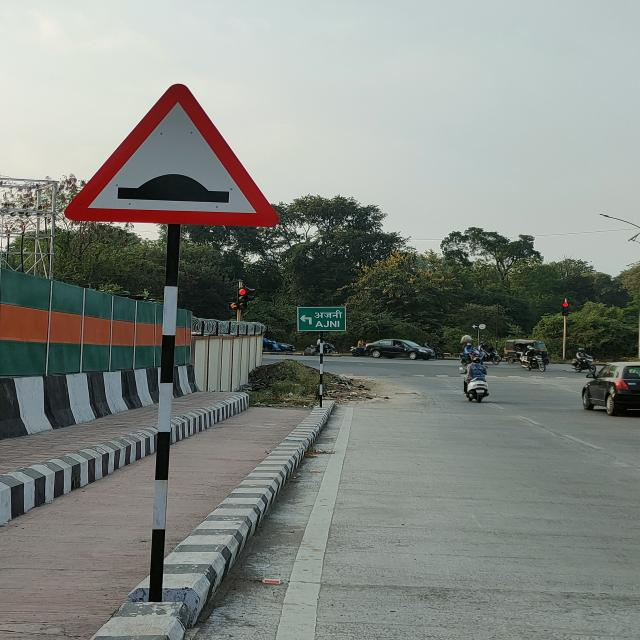HUMP_OR_ROUGH_ROAD: (65, 84, 282, 227)
